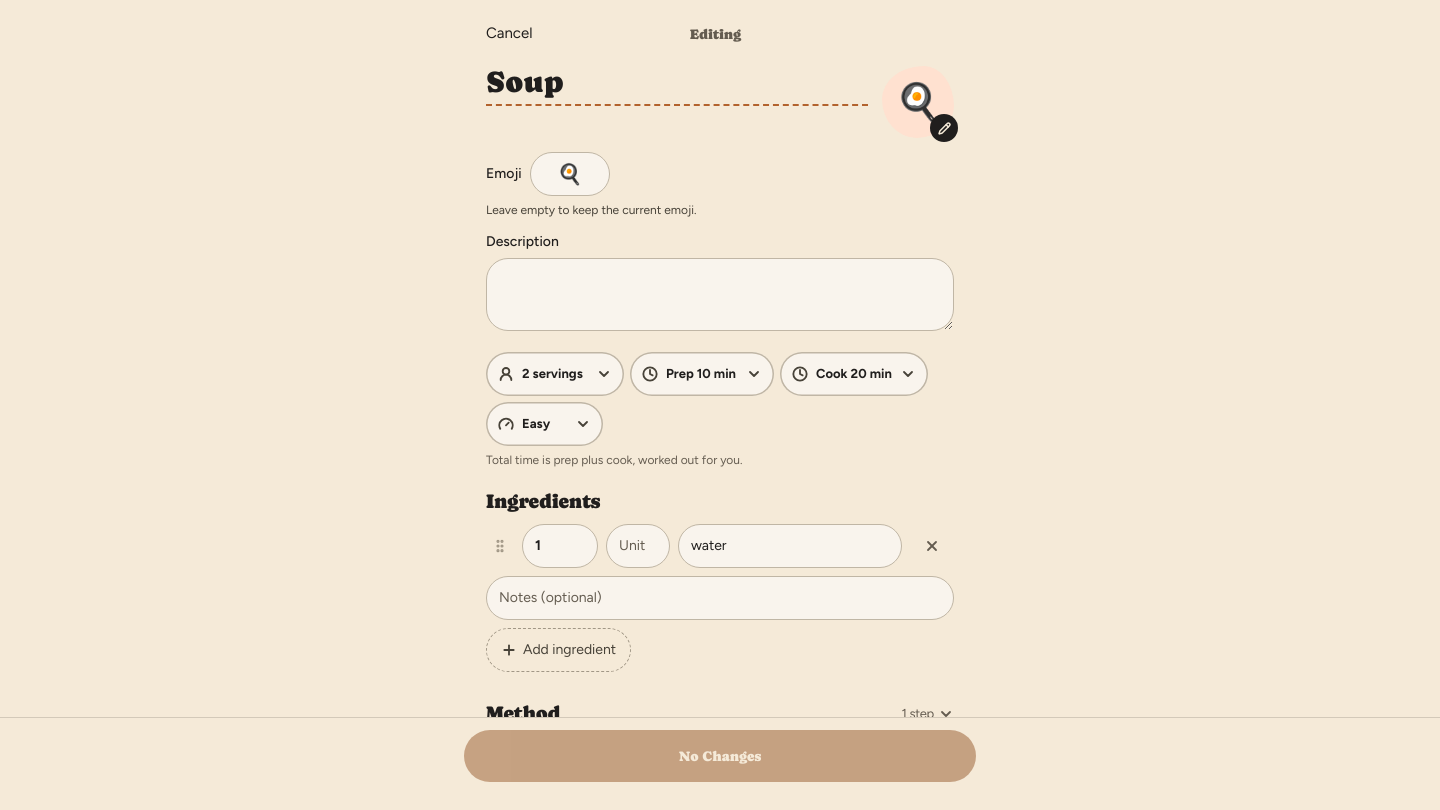
Test: RecipeEditPage save (verified owner, cloud first) › a missing cloud copy writes nothing and offers no retry
Replace the text in the field named "Title" with "Stew". click: (677, 86)
box: [486,66,868,106]
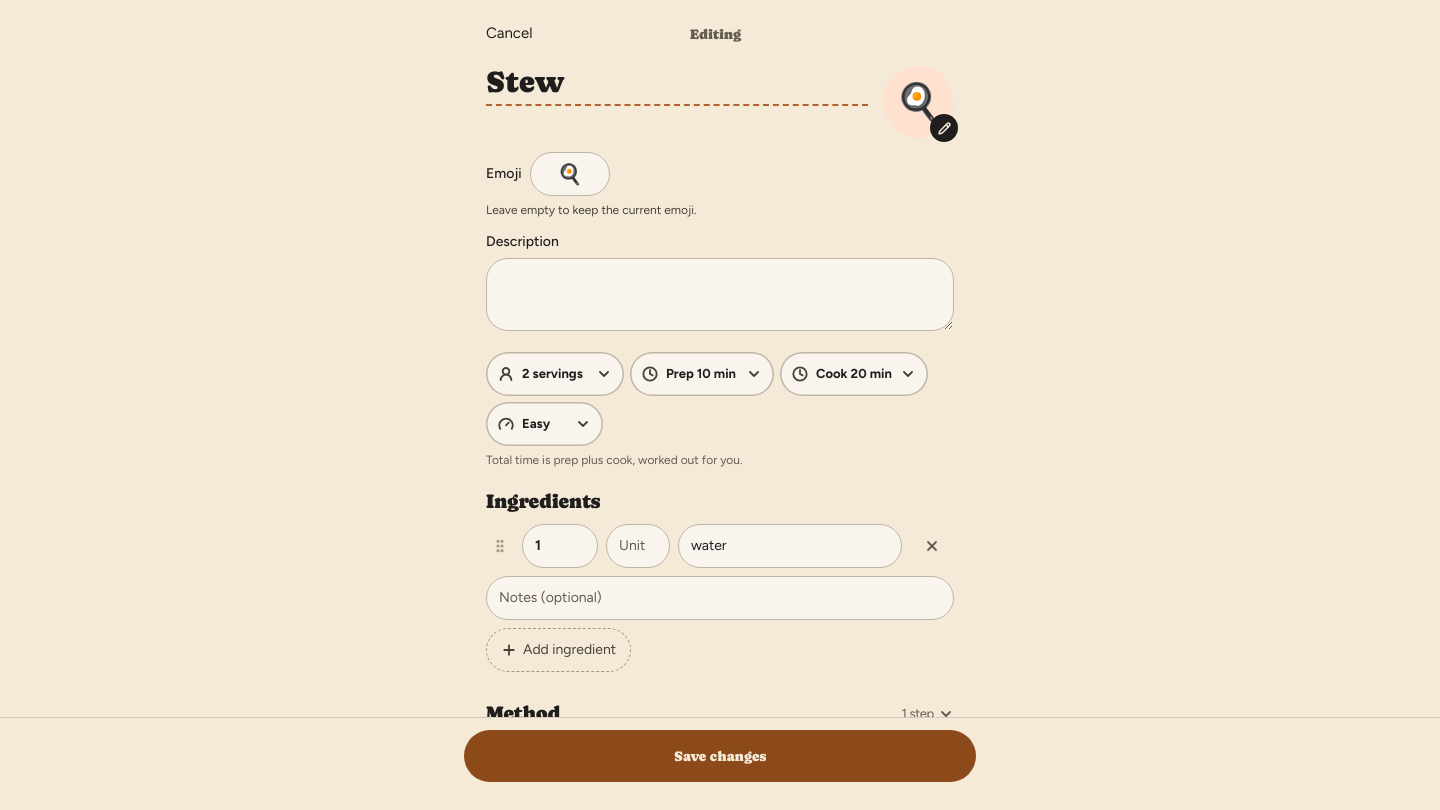
Click the button "Save changes". click: (720, 756)
box: [464,730,976,782]
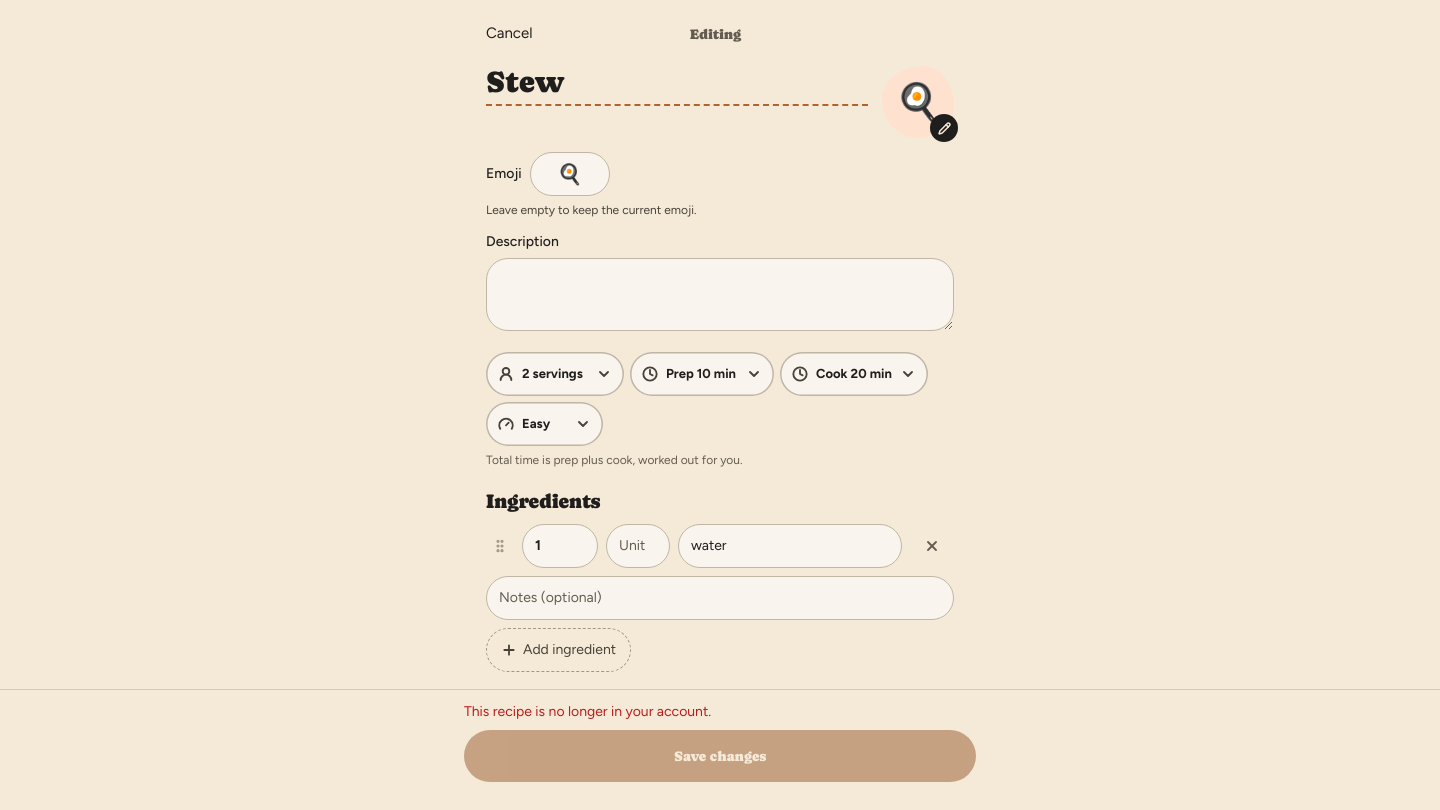
Result: the message reads "This recipe is no longer in your account." at [464,703,711,720]
Result: the button "Save changes" is disabled at [464,730,976,782]
